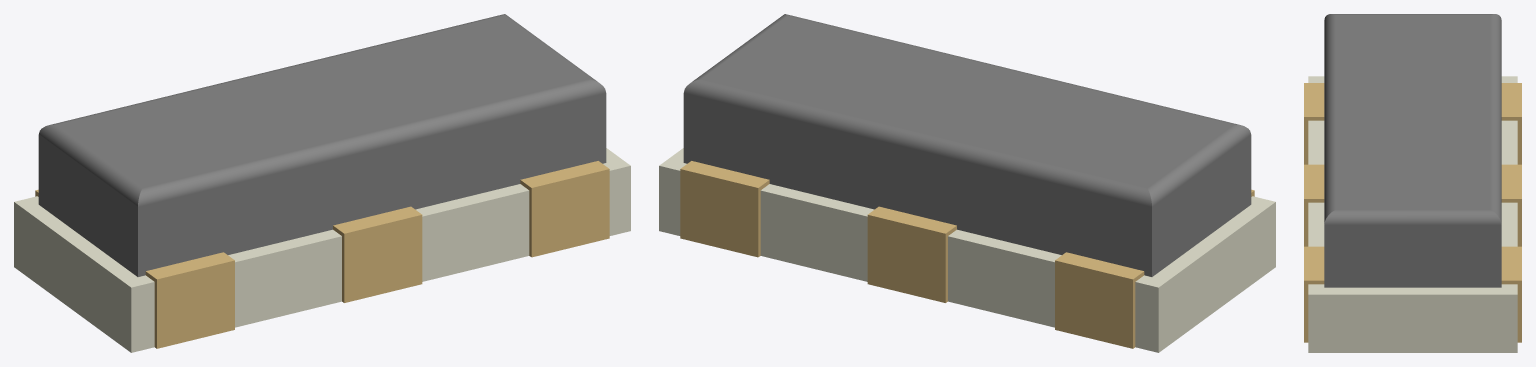
The model's file is Resonator_SMD_muRata_CSTxExxV-3Pin_3.0x1.1mm.glb.
3 renders of one model, left to right at view 1: azimuth 30°, elevation 25°; view 2: azimuth 150°, elevation 25°; view 3: azimuth 270°, elevation 25°, orthographic. The views are drawn at different scales.
Visible parts, largest first — view 1: =>[0:1:1:3]; view 2: =>[0:1:1:3]; view 3: =>[0:1:1:3].
Boxes of the visible parts, box(x1,y1,x2,y2) form: =>[0:1:1:3]: box(14, 14, 630, 352); =>[0:1:1:3]: box(659, 14, 1275, 352); =>[0:1:1:3]: box(1304, 14, 1521, 352).
Size of the model in its own units: 0.0032 by 0.0009 by 0.00135.
